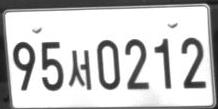0: (95, 39, 121, 89)
1: (152, 38, 179, 89)
2: (180, 36, 206, 88), (124, 37, 149, 90)
5: (40, 41, 64, 91)
9: (12, 40, 36, 90)
서: (68, 49, 92, 90)
